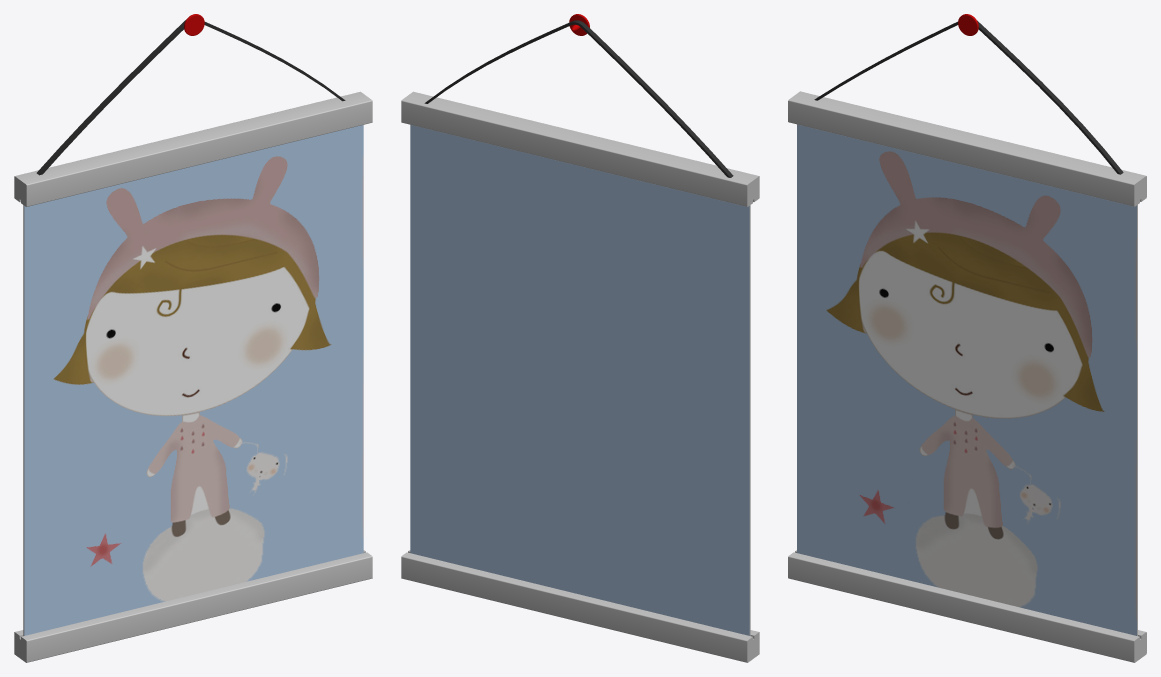
Rendered from Picture 1.FBX.
3 views of the same model, side by side, from view 1: azimuth 30°, elevation 25°; view 2: azimuth 150°, elevation 25°; view 3: azimuth 330°, elevation 25° (orthographic).
Visible parts, largest first — view 1: picture 1; view 2: picture 1; view 3: picture 1.
Boxes of the visible parts, left/top/right/bottom form: picture 1: left=14, top=14, right=372, bottom=662; picture 1: left=401, top=14, right=759, bottom=662; picture 1: left=788, top=14, right=1146, bottom=662.
Bounding box in the file's own units: 39.87 × 66.25 × 2.68.
